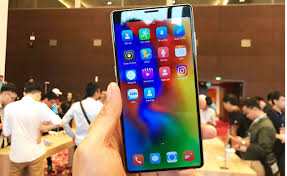bphone: (105, 3, 207, 173)
